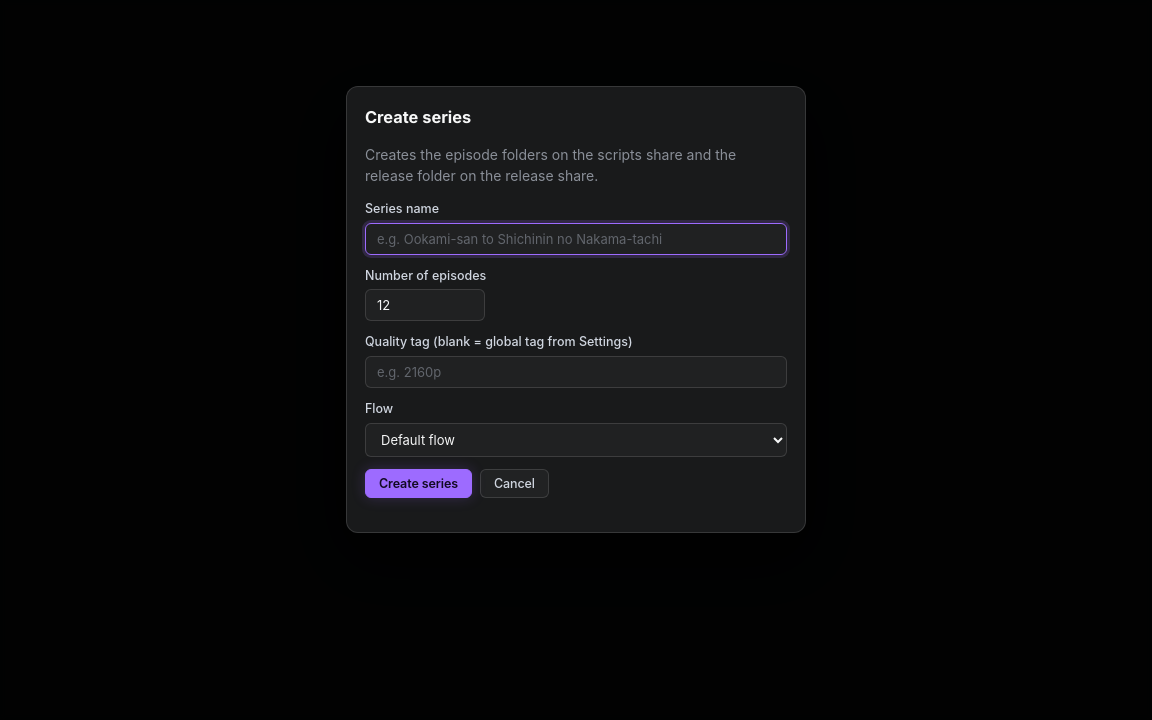
Test: CreateSeriesDialog › rejects an empty name client-side
What coordinates should you click on to do the following:
click the button "Create series"
I would click on:
 (418, 484)
Its box is [365,469,472,498].
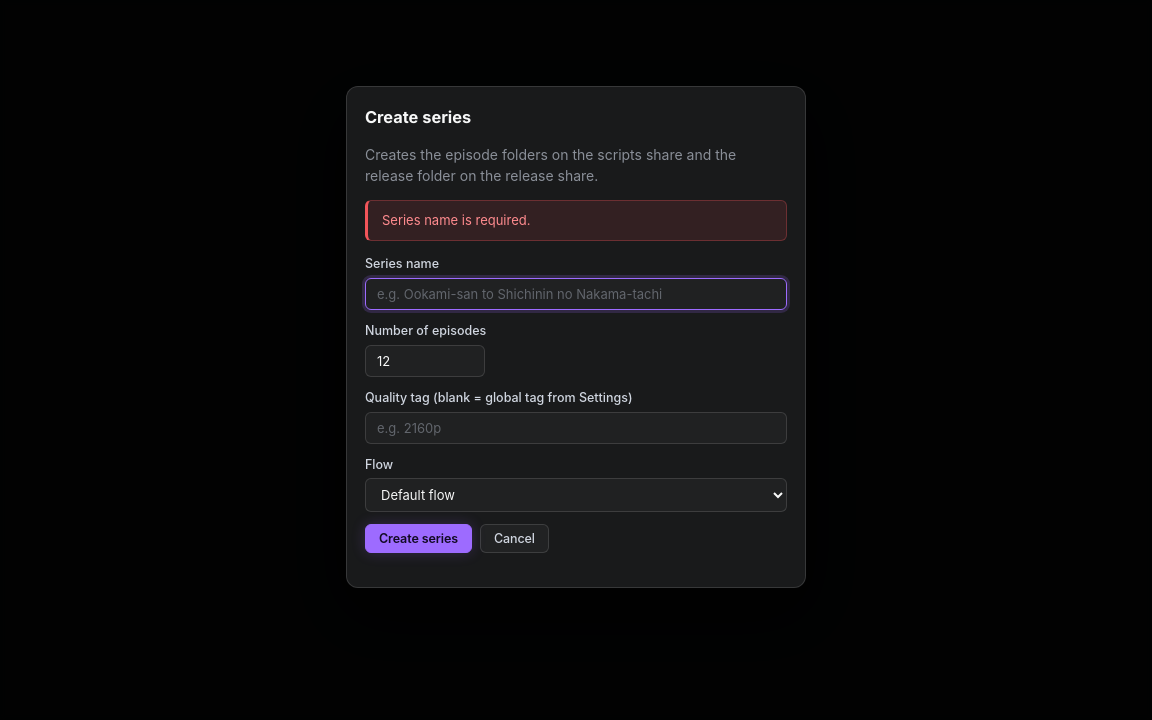
Now the text "Series name is required." is shown, box [365,200,787,242]
